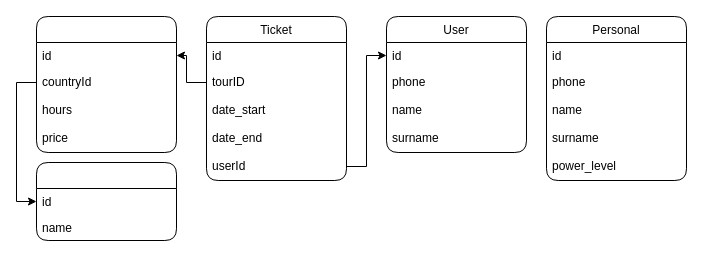
The diagram is 703 pixels wide and 257 high, and some of its shapes have lost their labels. Here are the shapes that lost their labels. From the top down, the box of each, then its label:
(36, 16, 176, 152): Tour
(36, 162, 176, 240): Country
